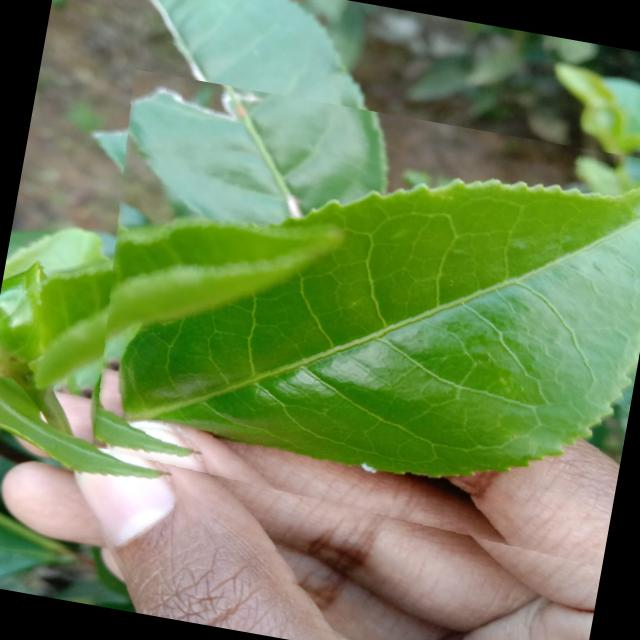Category C 4-7 days: (60, 68, 640, 568)
